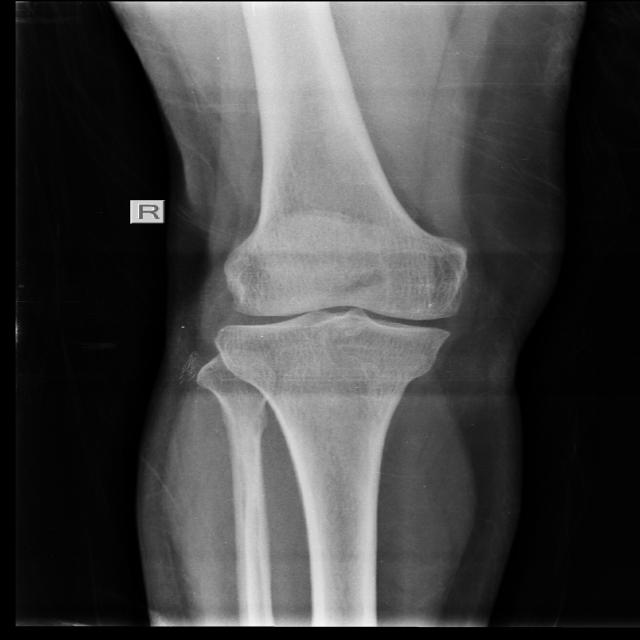normal: (211, 237, 474, 373)
